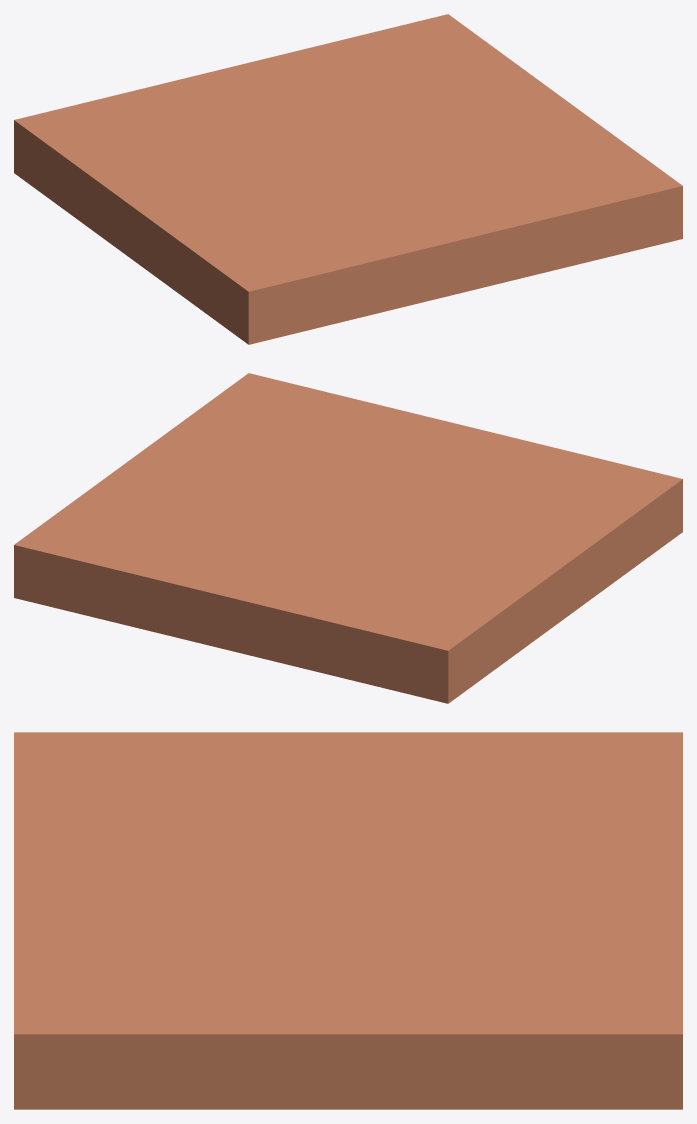
The model's file is Floor_Tile_05.fbx.
3 renders of one model, top to bottom at view 1: azimuth 30°, elevation 25°; view 2: azimuth 150°, elevation 25°; view 3: azimuth 270°, elevation 25°, orthographic. The views are drawn at different scales.
Visible parts, largest first — view 1: Cube.048; view 2: Cube.048; view 3: Cube.048.
Boxes of the visible parts, box(x1,y1,x2,y2) form: Cube.048: box(14, 14, 682, 344); Cube.048: box(14, 373, 682, 703); Cube.048: box(14, 732, 682, 1109).
Size of the model in its own units: 2.14 by 2 by 0.25.
